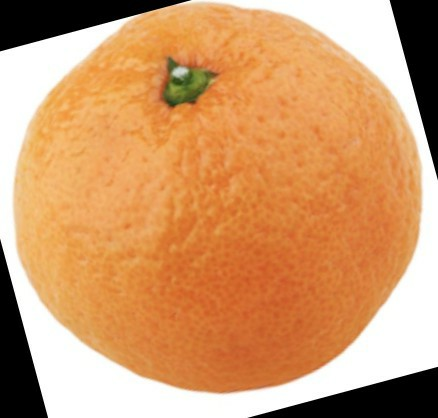fresh_orange: (13, 3, 419, 397)
